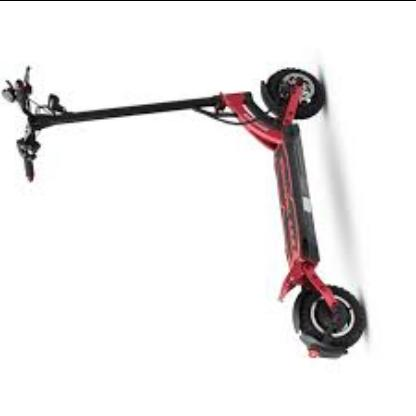bike: (1, 65, 368, 360)
